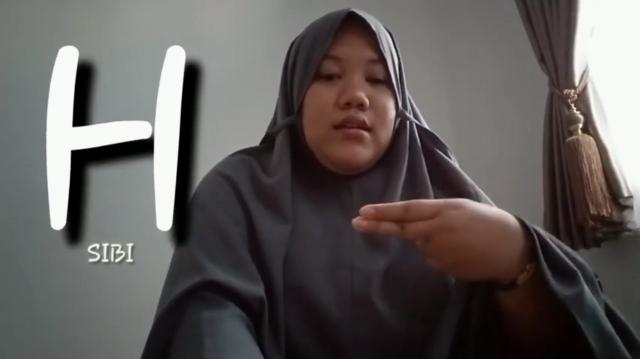H: (349, 196, 519, 280)
